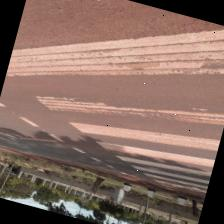crossing: (11, 0, 224, 116), (32, 64, 224, 155), (66, 102, 220, 168), (94, 129, 214, 178), (114, 148, 211, 184), (130, 160, 209, 189), (20, 131, 58, 149), (17, 116, 41, 129)
